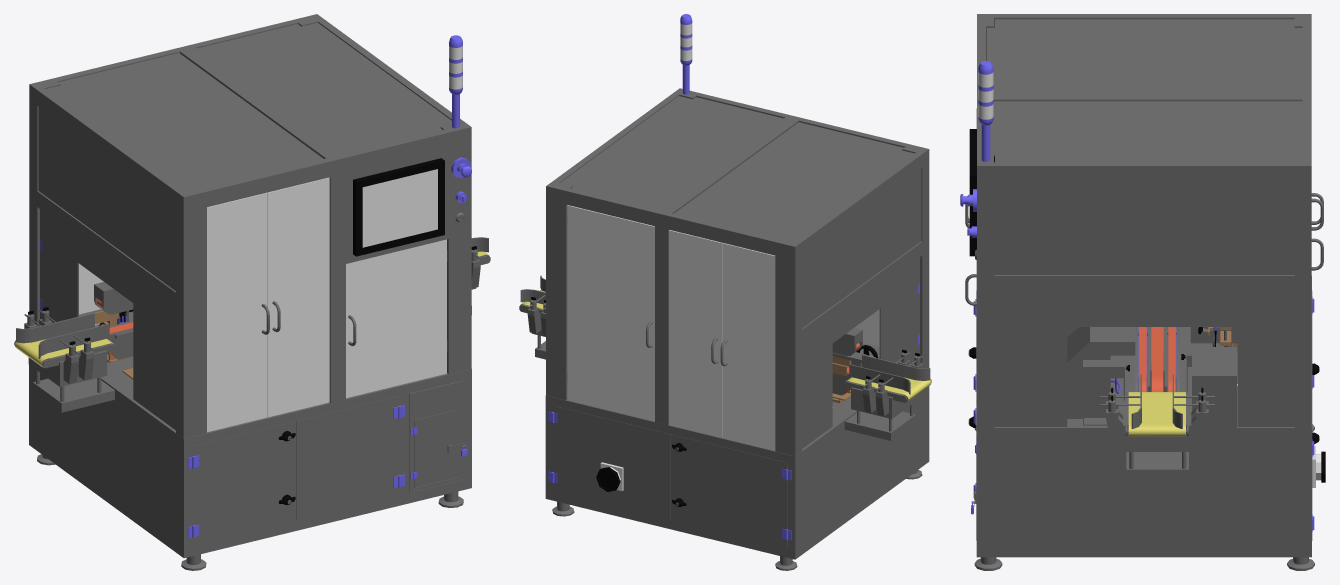
The model's file is PNS_Test.fbx.
The picture shows the model from 3 angles, left to right: view 1: azimuth 30°, elevation 25°; view 2: azimuth 150°, elevation 25°; view 3: azimuth 270°, elevation 25°; orthographic projection. The views are drawn at different scales.
Visible parts, largest first — view 1: polySurface2, Machine3_Windows, Machine3_Window_R1, Machine3_Window_R2, Machine3_Window_R3, Machine3_Screen, Machine3_Cluster7, polySurface1, Machine3_Unique, Machine3_Cluster8, Machine3_Cluster8.002, Machine3_Cluster3.001 (+3 smaller); view 2: polySurface2, Machine3_Windows, Machine3_Window_L3, Machine3_Window_L1, Machine3_Window_L2, Machine3_Cluster7, Machine3_Unique, Machine3_Cluster8.002, polySurface6, Machine3_Cluster7.002, Machine3_Cluster8, Machine3_Cluster5 (+3 smaller); view 3: Machine3_Windows, polySurface2, Machine3_RejectionBin_2, Machine3_Cluster7.002, Machine3_RejectionBin_1, Machine3_Unique, Machine3_Conveyor_6, Machine3_Cluster6, Machine3_Cluster4, Machine3_Conveyor_2, polySurface6, Machine3_Cluster2 (+2 smaller).
Part boxes in pixels (x1,y1,x2,y2): polySurface2: [29, 14, 471, 570]; Machine3_Windows: [38, 22, 451, 430]; Machine3_Window_R1: [267, 177, 329, 417]; Machine3_Window_R2: [207, 192, 269, 432]; Machine3_Window_R3: [346, 239, 447, 398]; Machine3_Screen: [362, 169, 437, 247]; Machine3_Cluster7: [14, 310, 115, 412]; polySurface1: [414, 409, 458, 487]; Machine3_Unique: [40, 35, 471, 538]; Machine3_Cluster8: [16, 310, 94, 343]; Machine3_Cluster8.002: [38, 324, 109, 358]; Machine3_Cluster3.001: [94, 282, 133, 314]; polySurface2: [545, 88, 929, 570]; Machine3_Windows: [560, 96, 921, 448]; Machine3_Window_L3: [567, 205, 654, 420]; Machine3_Window_L1: [720, 243, 775, 450]; Machine3_Window_L2: [669, 230, 722, 437]; Machine3_Cluster7: [844, 352, 931, 440]; Machine3_Unique: [548, 14, 919, 540]; Machine3_Cluster8.002: [862, 352, 930, 380]; polySurface6: [596, 443, 686, 506]; Machine3_Cluster7.002: [519, 300, 545, 359]; Machine3_Cluster8: [849, 364, 910, 394]; Machine3_Cluster5: [832, 352, 875, 409]; Machine3_Windows: [987, 19, 1302, 426]; polySurface2: [969, 14, 1314, 570]; Machine3_RejectionBin_2: [1192, 347, 1236, 526]; Machine3_Cluster7.002: [1106, 392, 1208, 479]; Machine3_RejectionBin_1: [1067, 327, 1135, 418]; Machine3_Unique: [960, 61, 1314, 531]; Machine3_Conveyor_6: [1128, 392, 1185, 436]; Machine3_Cluster6: [1083, 327, 1237, 425]; Machine3_Cluster4: [1135, 327, 1179, 391]; Machine3_Conveyor_2: [1151, 327, 1163, 391]; polySurface6: [968, 347, 1325, 503]; Machine3_Cluster2: [1190, 327, 1237, 351].
Size of the model in its own units: 221 by 218 by 143.
